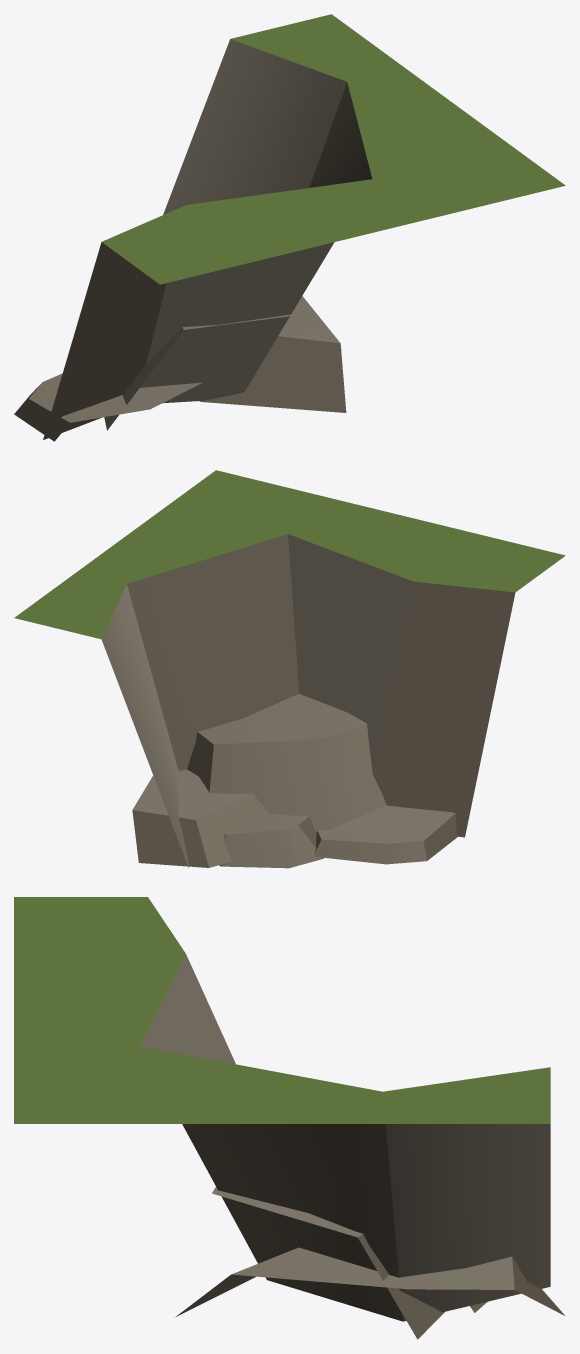
Rendered from SF_Env_CliffEdge_Corner_01.fbx.
3 views of the same model, one above another, from view 1: azimuth 30°, elevation 25°; view 2: azimuth 150°, elevation 25°; view 3: azimuth 270°, elevation 25° (orthographic). The views are drawn at different scales.
Visible parts, largest first — view 1: SF_Env_CliffEdge_Corner_01; view 2: SF_Env_CliffEdge_Corner_01; view 3: SF_Env_CliffEdge_Corner_01.
Boxes of the visible parts, left/top/right/bottom form: SF_Env_CliffEdge_Corner_01: left=14, top=14, right=565, bottom=441; SF_Env_CliffEdge_Corner_01: left=14, top=470, right=565, bottom=868; SF_Env_CliffEdge_Corner_01: left=14, top=897, right=564, bottom=1339.
Bounding box in the file's own units: 10 × 5.82 × 10.29.
